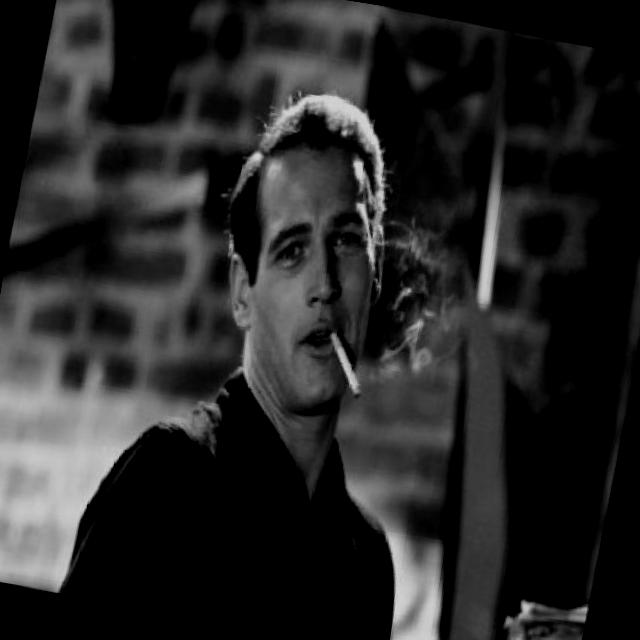smoke: (318, 330, 377, 406)
